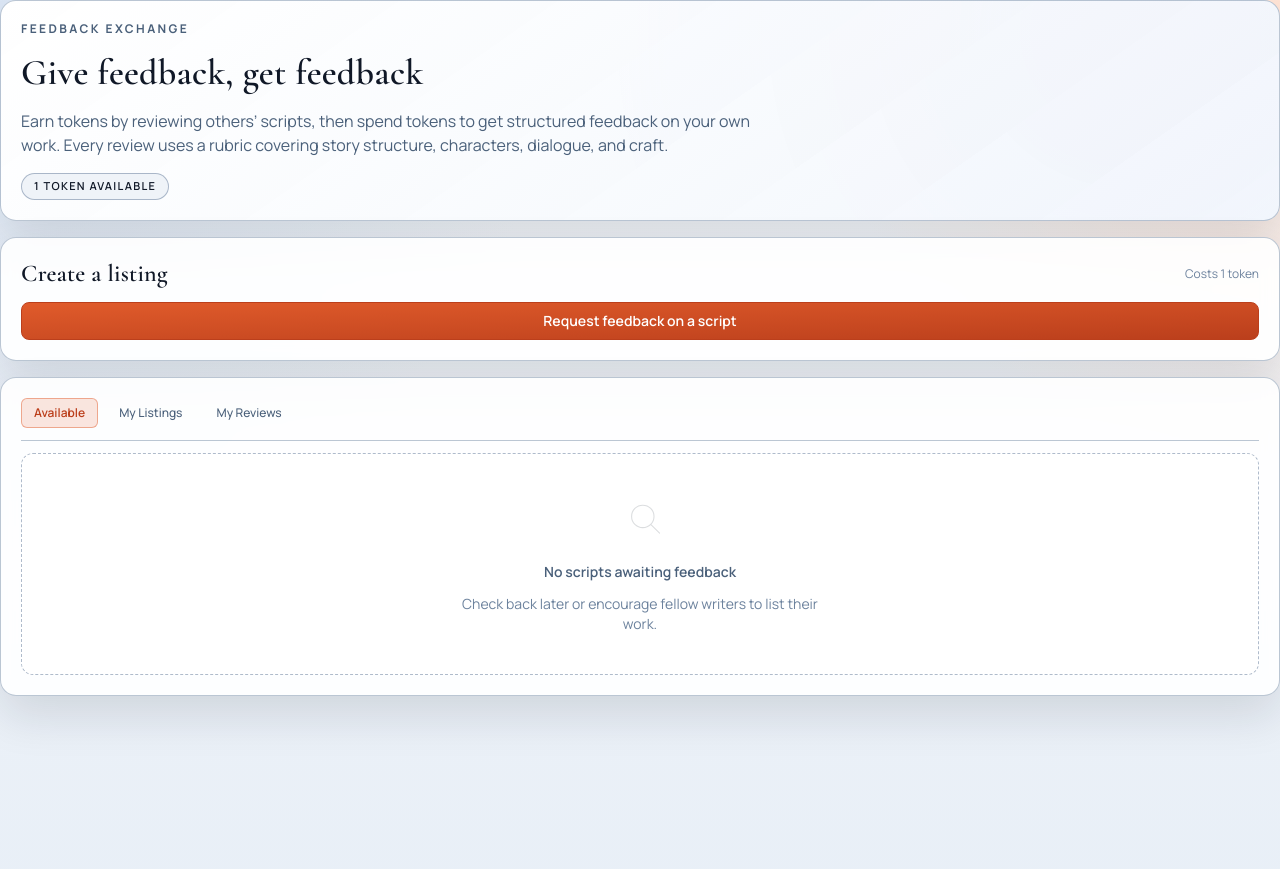
it: FeedbackPage form, token, and review coverage › shows draft picker empty and reset states when changing project selection
Click the button "Request feedback on a script". click: (640, 320)
box: left=21, top=302, right=1259, bottom=340
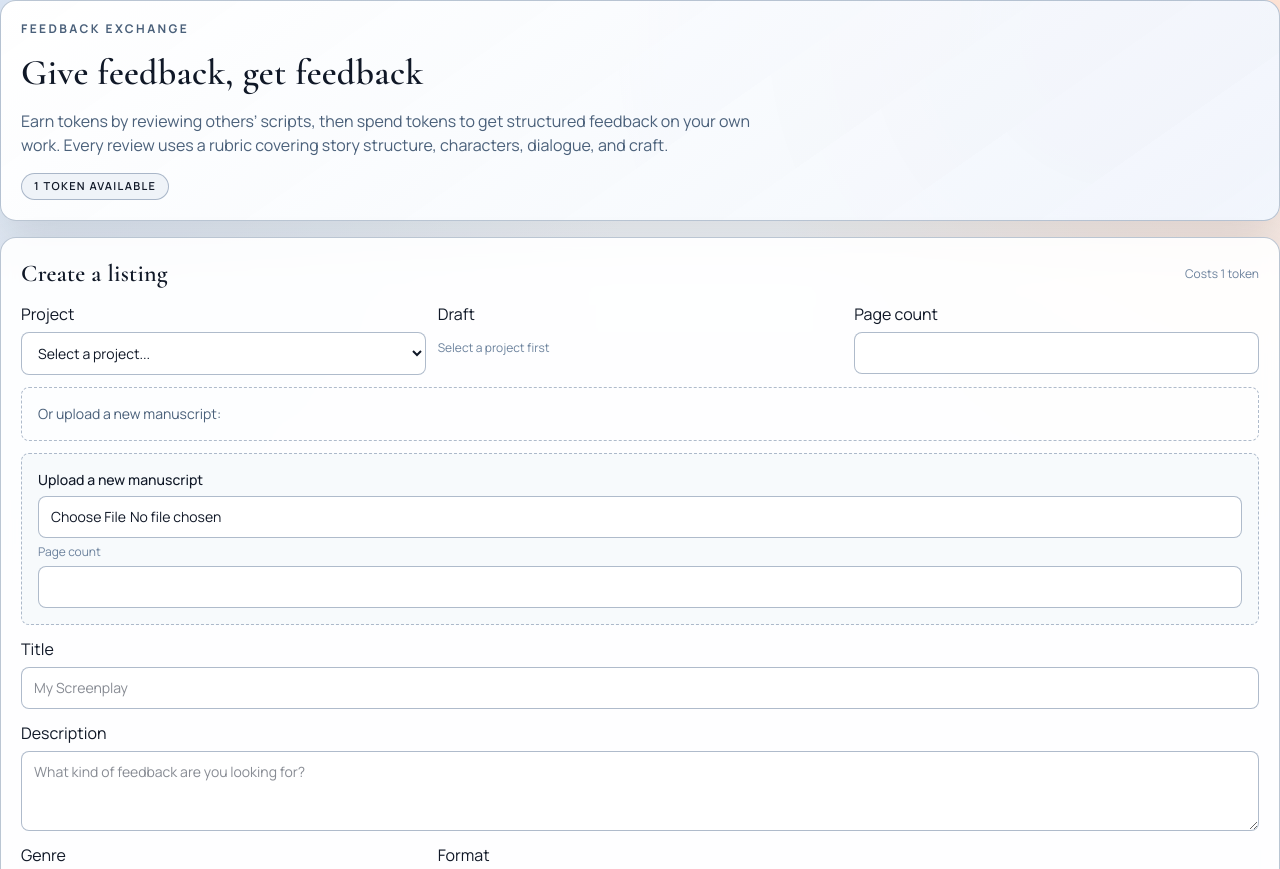
Expected: the text "Or upload a new manuscript:" is shown, left=38, top=404, right=221, bottom=422
Expected: the file field labelled "Upload a new manuscript" is shown, left=38, top=496, right=1242, bottom=538
Expected: the text "Select a project first" is shown, left=438, top=338, right=550, bottom=356
Select "Project One" in the dropdown labelled "Project". click: (223, 353)
box: left=21, top=332, right=426, bottom=374
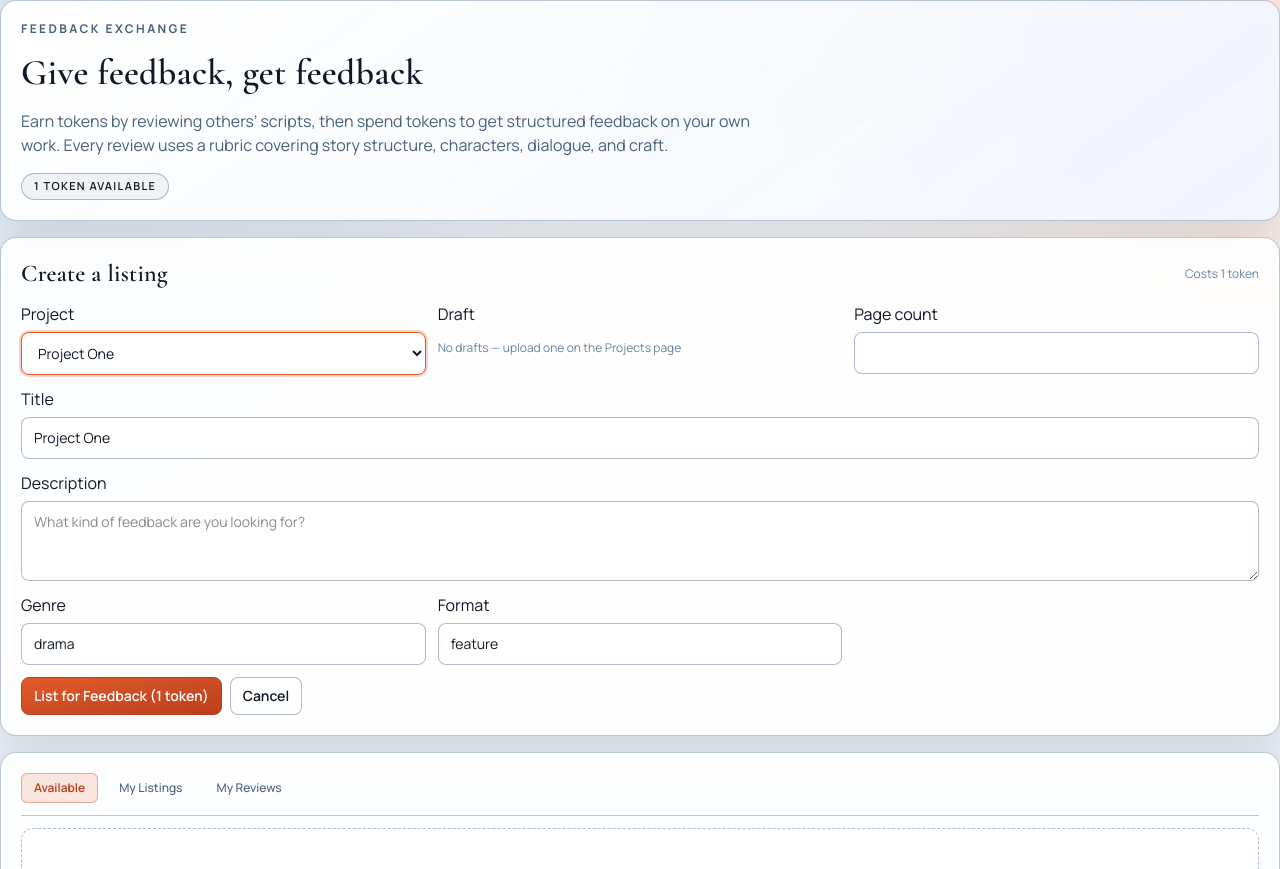
Expected: the text "No drafts — upload one on the Projects page" is shown, left=438, top=338, right=681, bottom=356
Select "Select a project..." in the dropdown labelled "Project". click: (223, 353)
box: left=21, top=332, right=426, bottom=374
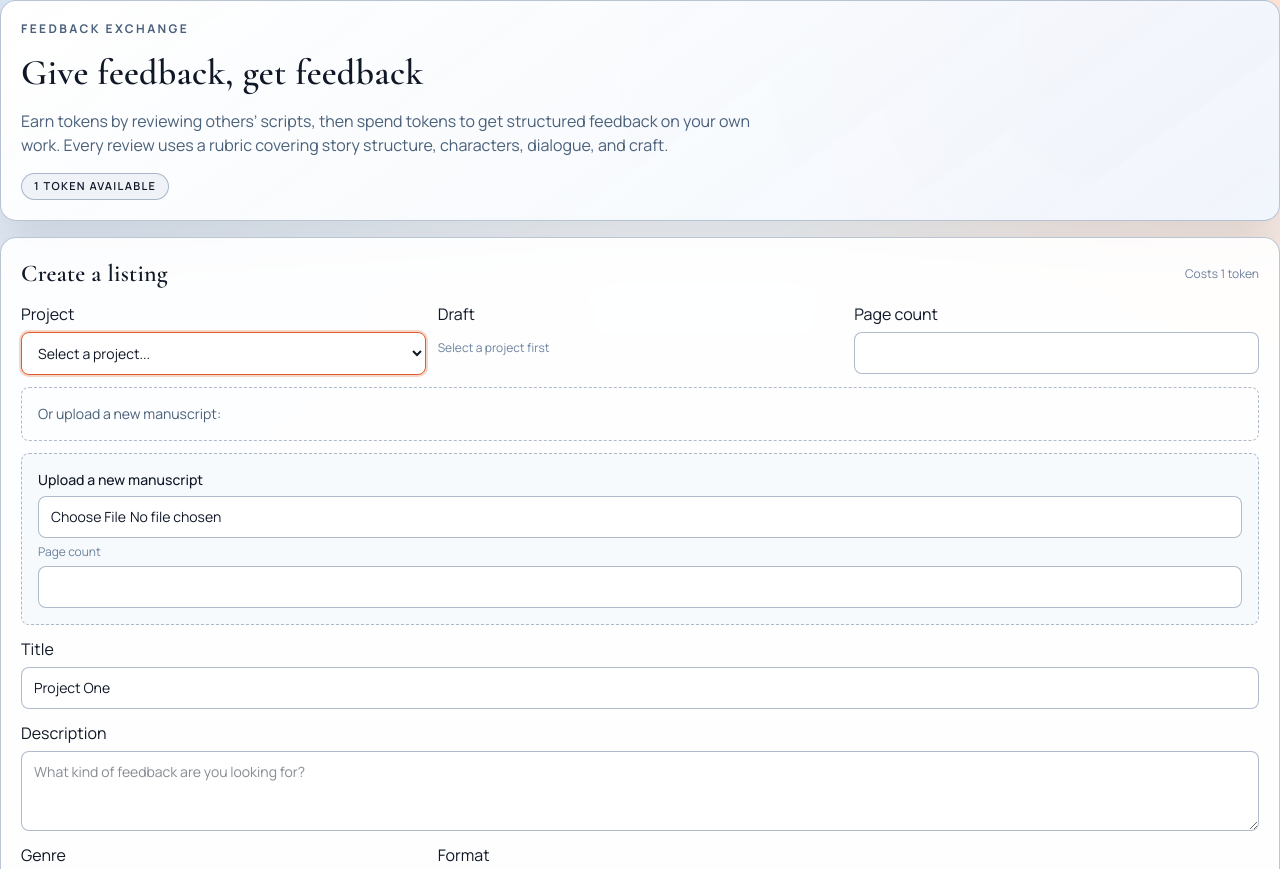
Expected: the text "Select a project first" is shown, left=438, top=338, right=550, bottom=356
